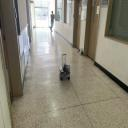cart: (59, 66, 71, 81)
